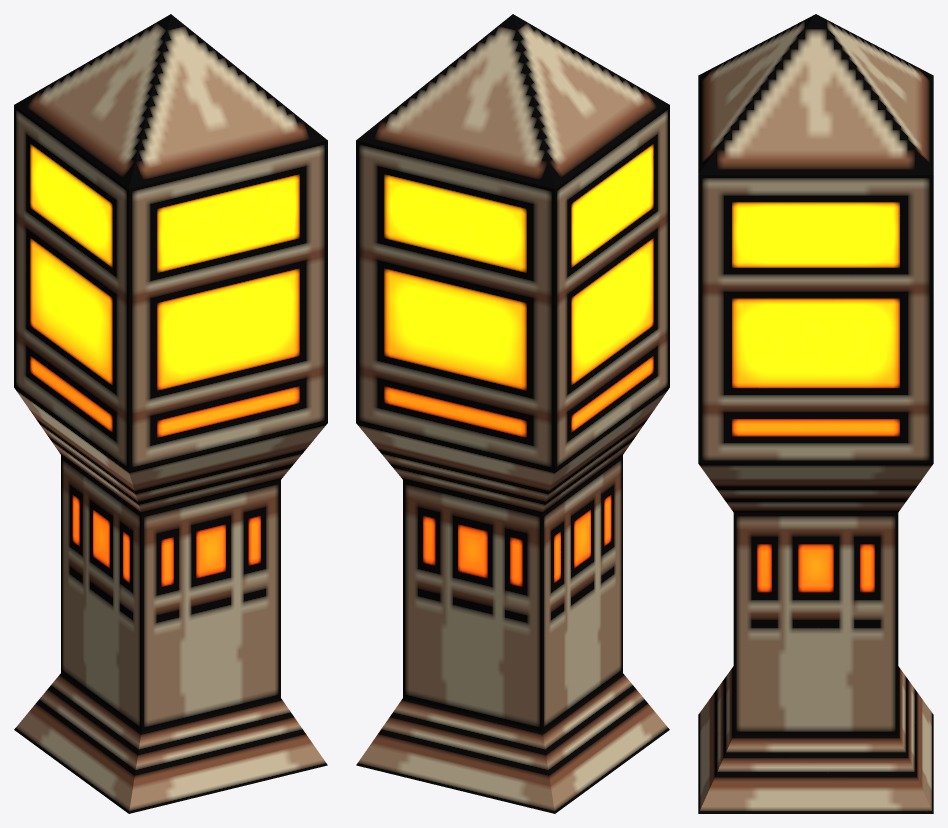
Rendered from deco_light_tall.FBX.
3 views of the same model, side by side, from view 1: azimuth 30°, elevation 25°; view 2: azimuth 150°, elevation 25°; view 3: azimuth 270°, elevation 25° (orthographic). The views are drawn at different scales.
Visible parts, largest first — view 1: deco_light_tall; view 2: deco_light_tall; view 3: deco_light_tall.
Part boxes in pixels (bbox=[...]): deco_light_tall: bbox=[14, 14, 327, 813]; deco_light_tall: bbox=[356, 14, 669, 813]; deco_light_tall: bbox=[698, 14, 933, 813].
Bounding box in the file's own units: 1 × 3.52 × 1.
Materials: 1 (1 with a texture image).
